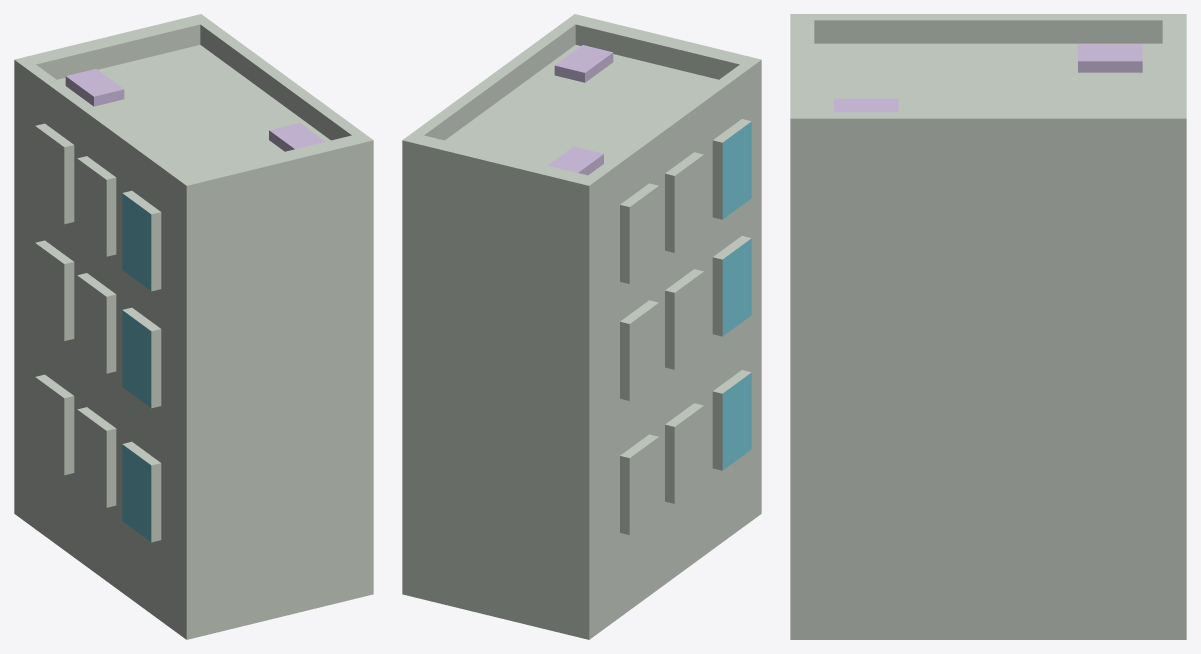
Rendered from building2.glb.
The picture shows the model from 3 angles, left to right: view 1: azimuth 30°, elevation 25°; view 2: azimuth 150°, elevation 25°; view 3: azimuth 270°, elevation 25°; orthographic projection. The views are drawn at different scales.
Parts seen in each view (by area): view 1: Cube; view 2: Cube; view 3: Cube.
Boxes of the visible parts, box(x1,y1,x2,y2) form: Cube: box(14, 14, 373, 639); Cube: box(402, 14, 761, 639); Cube: box(790, 14, 1186, 639).
Bounding box in the file's own units: 2.13 × 4.64 × 3.2.
